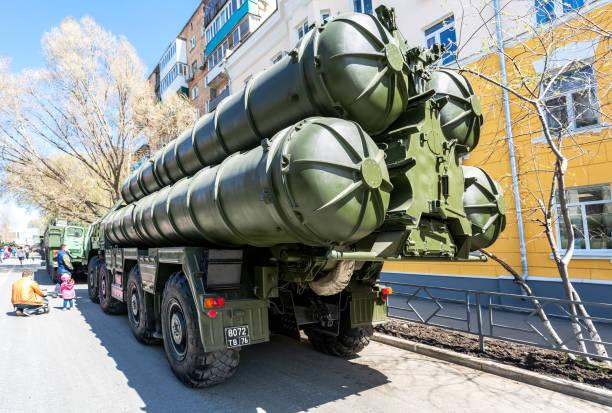MIL_SAM_TEL: (82, 13, 511, 395)
